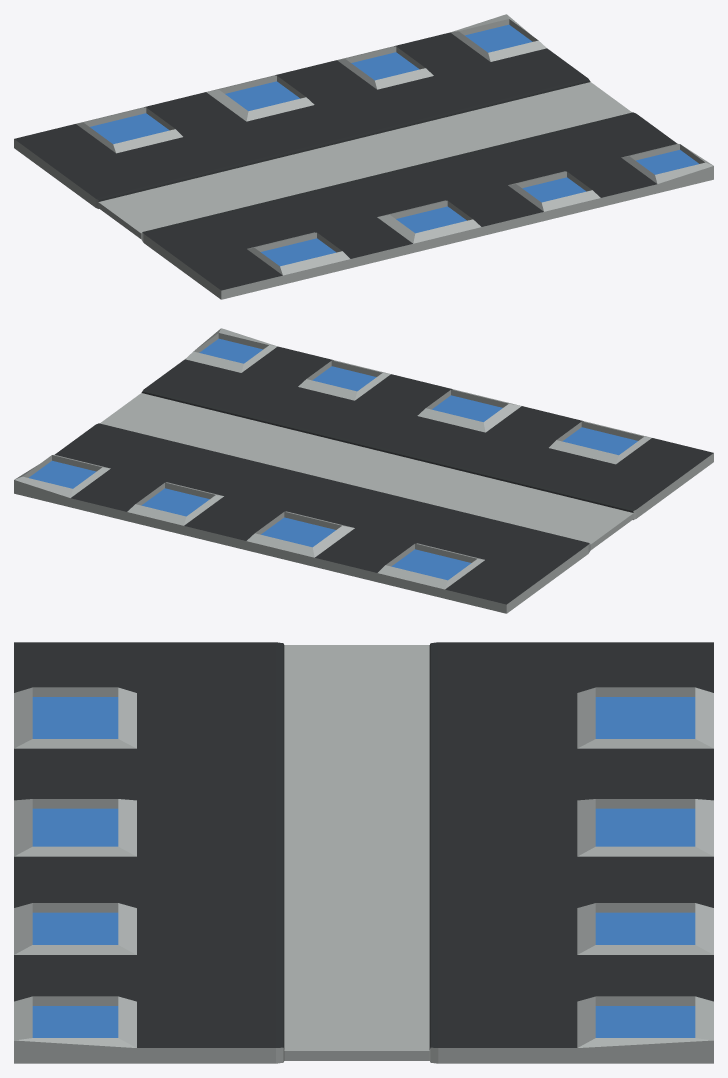
File: Wall.fbx
3 renders of one model, top to bottom at view 1: azimuth 30°, elevation 25°; view 2: azimuth 150°, elevation 25°; view 3: azimuth 270°, elevation 25°, orthographic. The views are drawn at different scales.
Visible parts, largest first — view 1: Cube.154; view 2: Cube.154; view 3: Cube.154.
Boxes of the visible parts, box(x1,y1,x2,y2) form: Cube.154: box(14, 14, 713, 299); Cube.154: box(14, 328, 713, 613); Cube.154: box(14, 642, 713, 1063).
Size of the model in its own units: 872 by 23.3 by 636.
